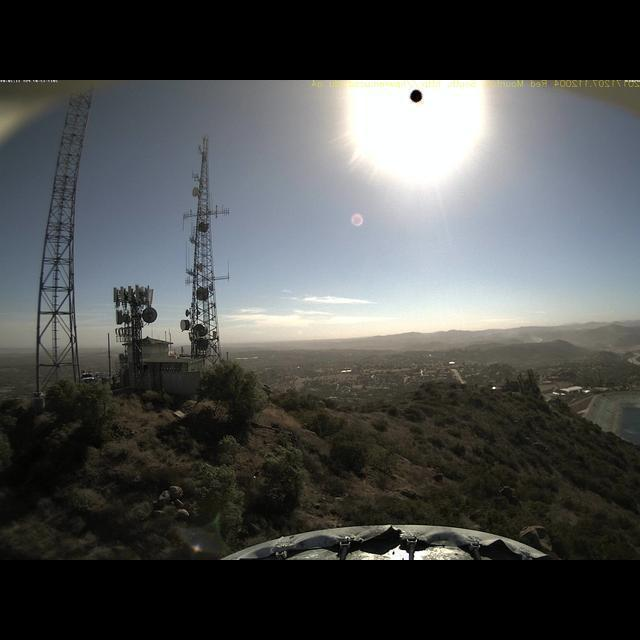Smoke: (505, 324, 546, 345)
